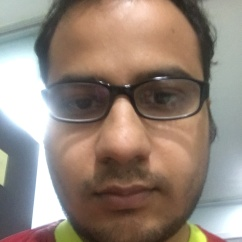glasses: (37, 84, 201, 122)
